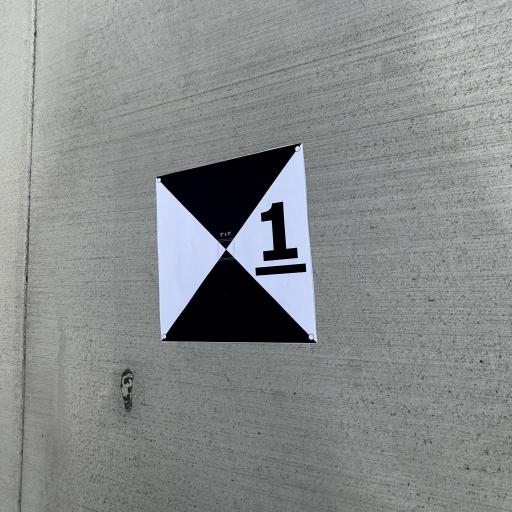target1: (151, 140, 323, 354)
